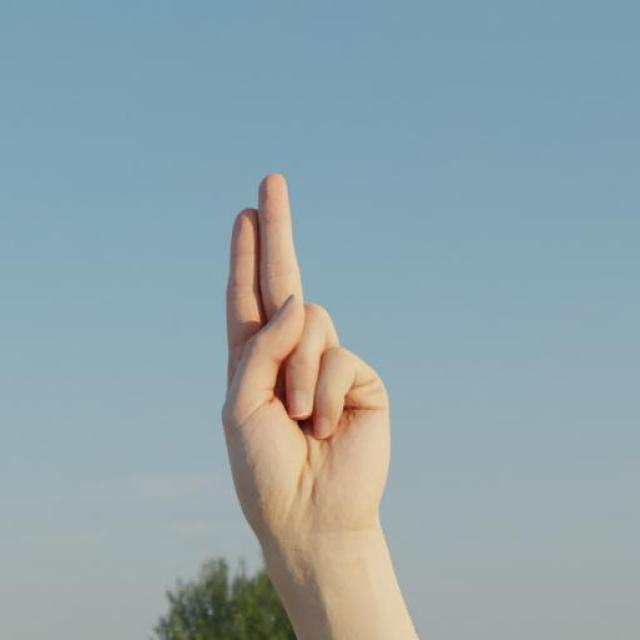U: (203, 169, 394, 525)
